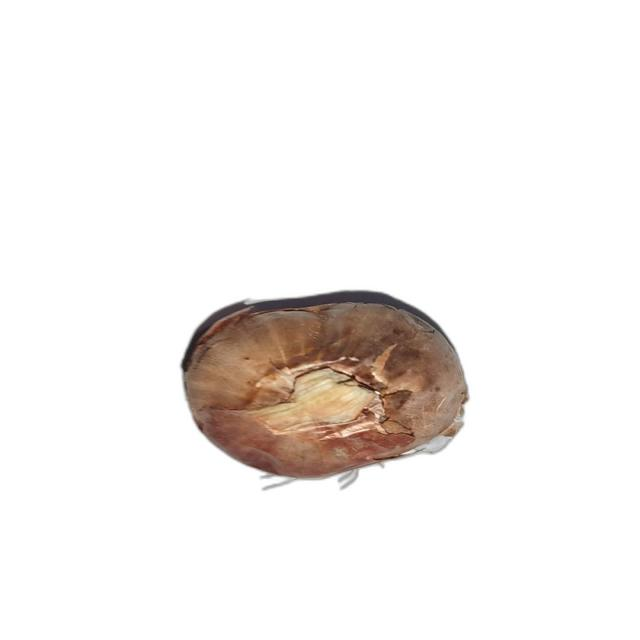onion: (182, 300, 471, 488)
